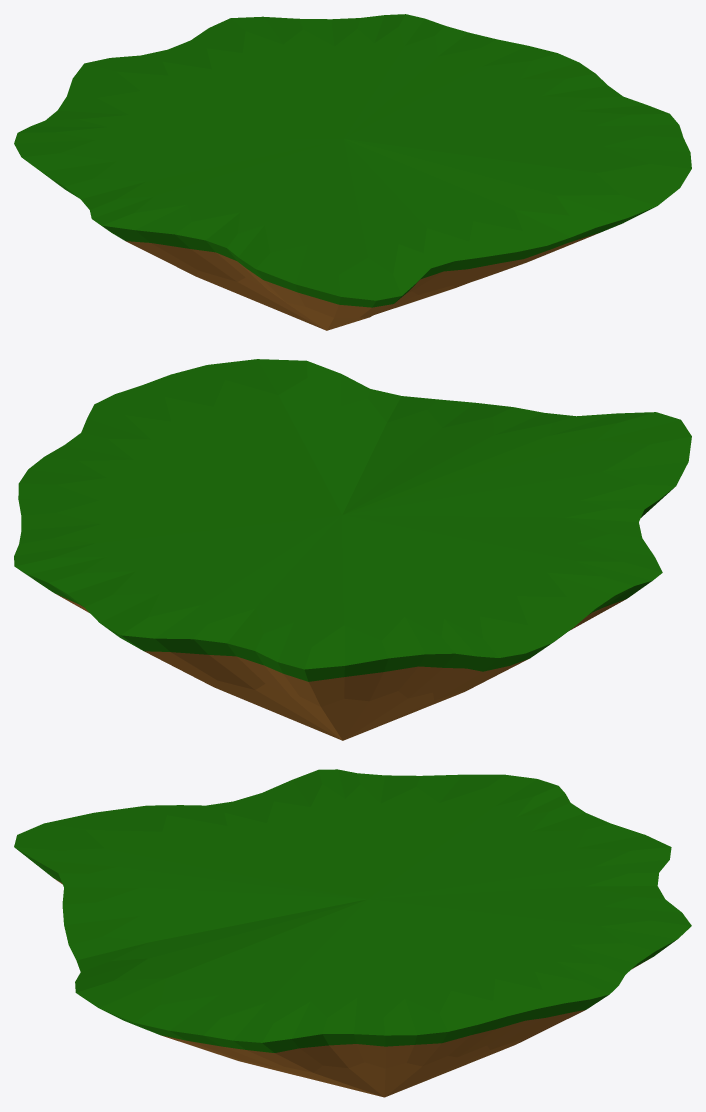
File: island.fbx
3 renders of one model, top to bottom at view 1: azimuth 30°, elevation 25°; view 2: azimuth 150°, elevation 25°; view 3: azimuth 270°, elevation 25°, orthographic. The views are drawn at different scales.
Parts seen in each view (by area): view 1: Cone; view 2: Cone; view 3: Cone.
Part boxes in pixels (x1,y1,x2,y2): Cone: [14, 14, 691, 330]; Cone: [14, 359, 691, 740]; Cone: [14, 769, 691, 1097].
Bounding box in the file's own units: 588 × 203 × 616.
